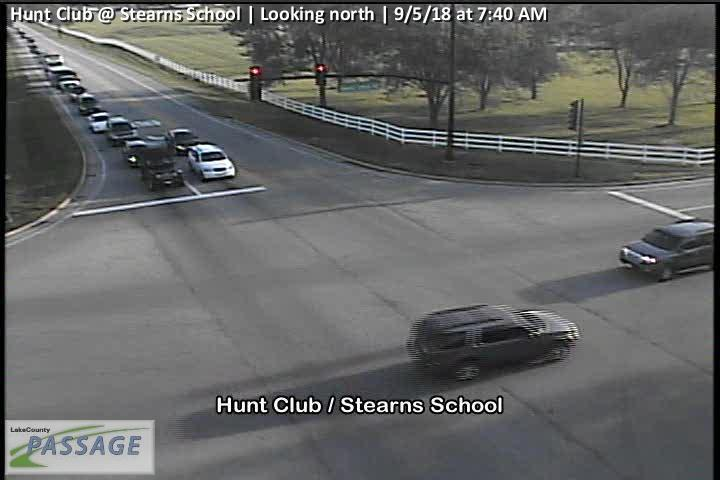SUV: (410, 302, 580, 379)
Sedan: (618, 220, 720, 280), (186, 143, 237, 182), (143, 153, 186, 192), (105, 116, 138, 146), (163, 128, 200, 154), (120, 138, 150, 168), (76, 93, 102, 117), (87, 111, 112, 132)
